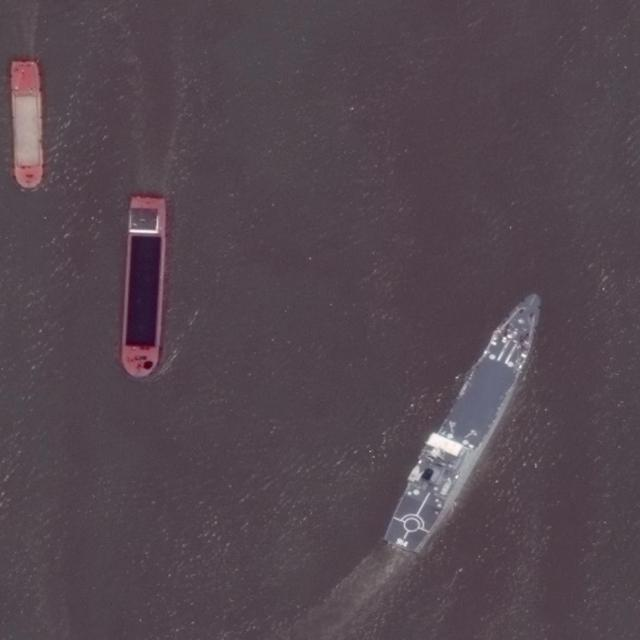Cargo: (118, 194, 169, 380), (11, 60, 44, 189)
Landing: (378, 285, 553, 560)
